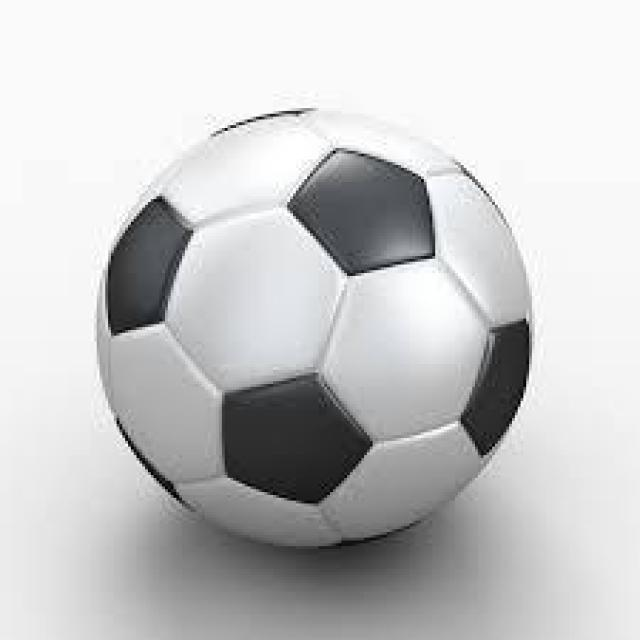Soccer Ball: (97, 103, 540, 546)
